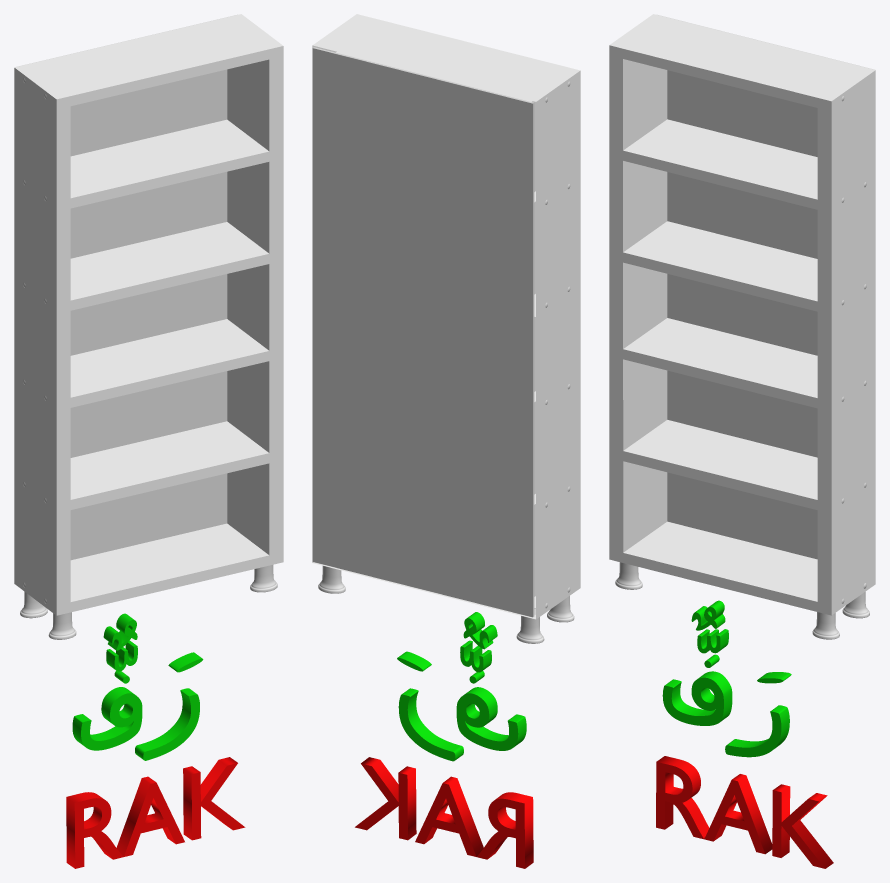
Rendered from kitaplık.fbx.
3 views of the same model, side by side, from view 1: azimuth 30°, elevation 25°; view 2: azimuth 150°, elevation 25°; view 3: azimuth 330°, elevation 25° (orthographic).
Parts seen in each view (by area): view 1: Cube, Plane, Teks, Text, Text.002, Text.003, Cylinder.001, Cylinder.002; view 2: Plane, Cube, Teks, Text, Text.002, Text.003, Cylinder.003, Cylinder; view 3: Cube, Plane, Teks, Text, Text.002, Text.003, Cylinder.001, Cylinder.002.
Part boxes in pixels (box(x1,y1,x2,y2)): Cube: box(14, 14, 283, 615); Plane: box(15, 14, 237, 560); Teks: box(66, 757, 245, 868); Text: box(72, 671, 199, 760); Text.002: box(103, 613, 137, 650); Text.003: box(106, 640, 137, 671); Cylinder.001: box(250, 565, 277, 592); Cylinder.002: box(48, 612, 76, 639); Plane: box(312, 47, 534, 617); Cube: box(312, 14, 580, 619); Teks: box(355, 757, 533, 868); Text: box(398, 671, 526, 761); Text.002: box(463, 612, 497, 649); Text.003: box(460, 640, 491, 672); Cylinder.003: box(516, 608, 544, 643); Cylinder: box(318, 566, 345, 593); Cube: box(609, 14, 875, 615); Plane: box(657, 14, 874, 559); Teks: box(656, 756, 833, 868); Text: box(662, 654, 789, 757); Text.002: box(691, 600, 725, 630); Text.003: box(697, 629, 728, 653); Cylinder.001: box(812, 612, 839, 639); Cylinder.002: box(615, 562, 642, 589).
Bounding box in the file's own units: 308 × 1022 × 109.
